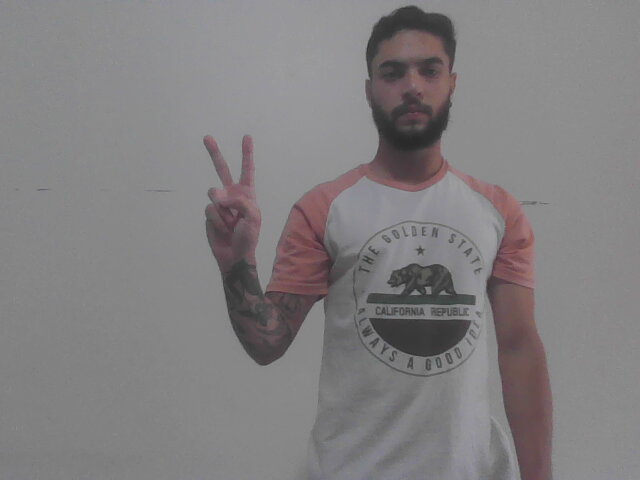v: (194, 131, 267, 268)
